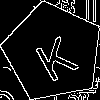K: (28, 27, 81, 83)
